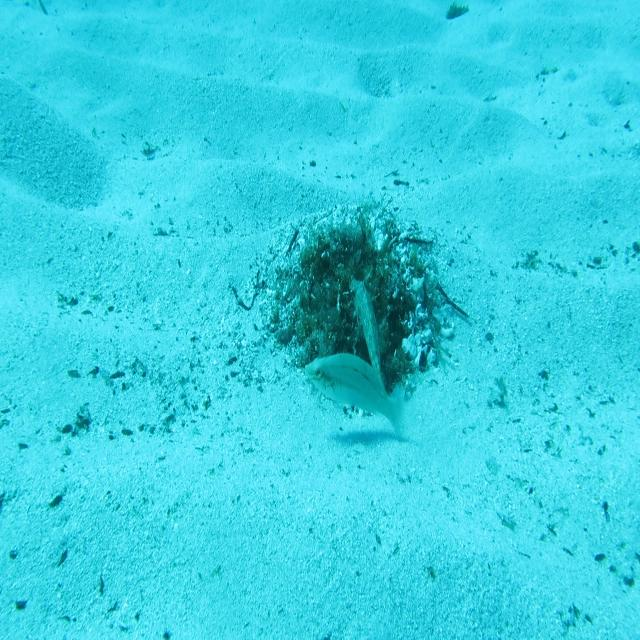FAN: (348, 276, 386, 389)
core_nest: (331, 253, 376, 301)
female: (302, 349, 414, 442)
nest: (249, 186, 471, 426)
vegetation: (446, 0, 468, 24)
